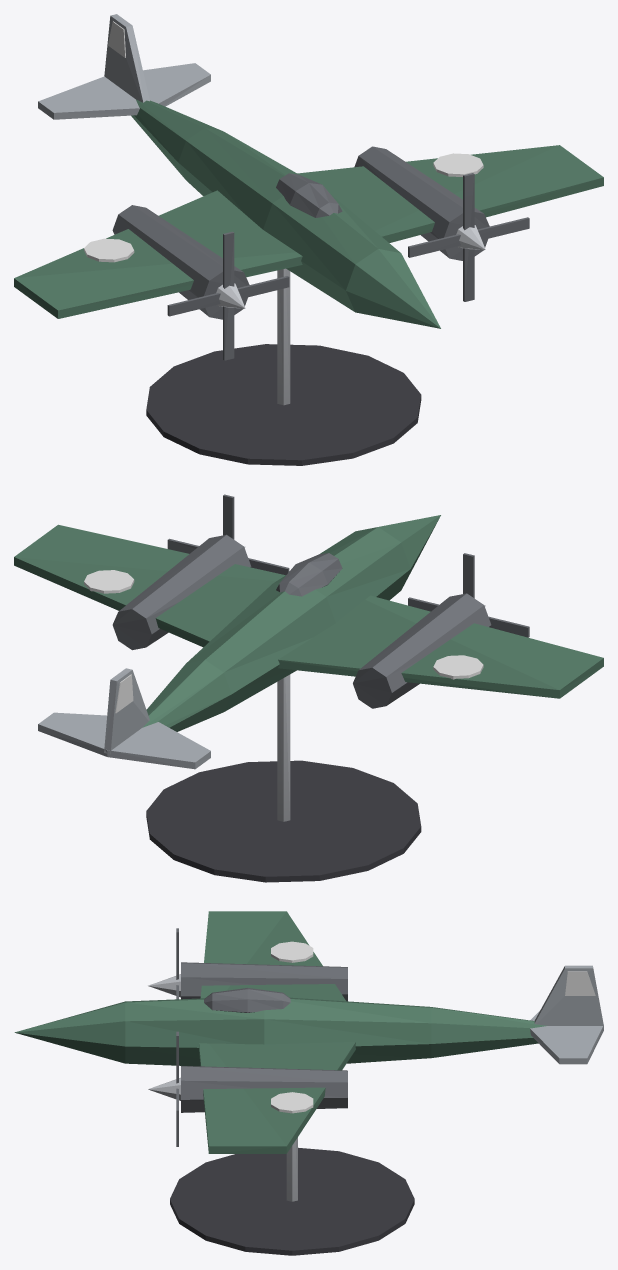
The model's file is Bomber.glb.
The picture shows the model from 3 angles, top to bottom: view 1: azimuth 30°, elevation 25°; view 2: azimuth 150°, elevation 25°; view 3: azimuth 270°, elevation 25°; orthographic projection. The views are drawn at different scales.
Parts seen in each view (by area): view 1: Body; view 2: Body; view 3: Body.
Boxes of the visible parts, box(x1,y1,x2,y2) form: Body: box(14, 14, 603, 465); Body: box(14, 494, 603, 882); Body: box(14, 911, 603, 1255).
Size of the model in its own units: 1 by 0.47 by 1.06.
